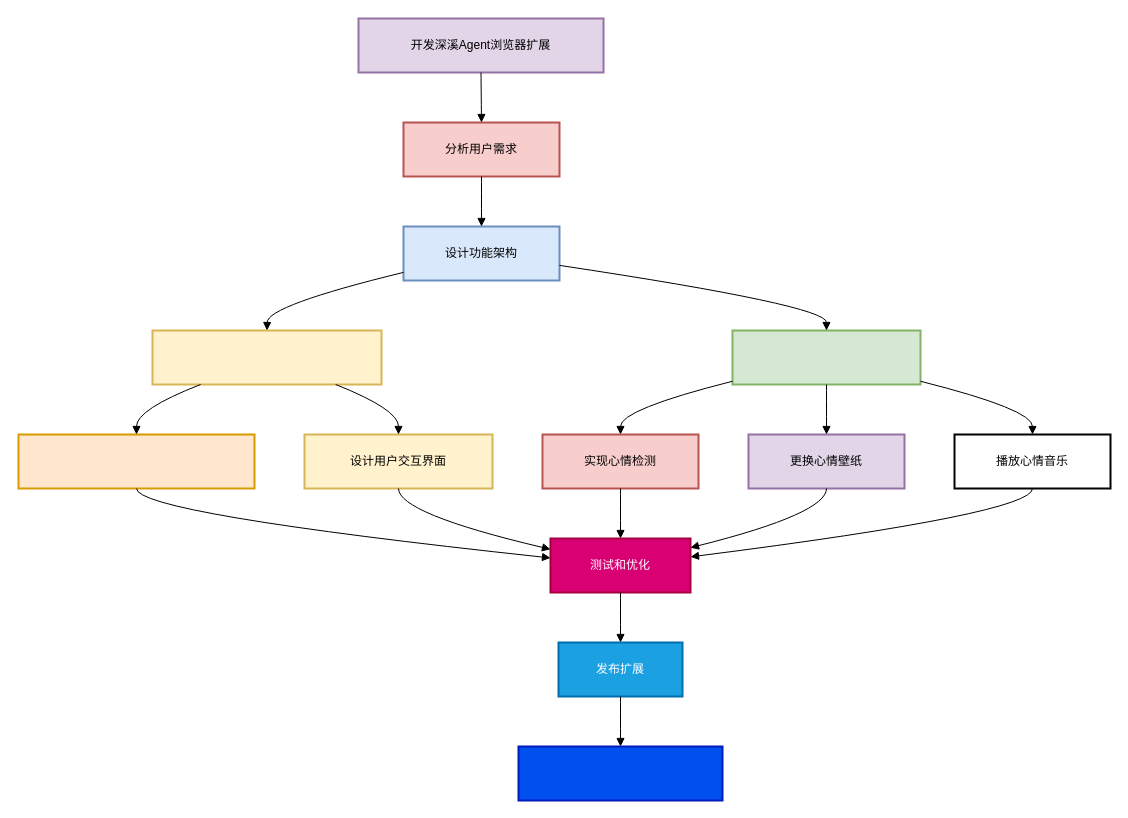
This 1128x818 diagram has some shape labels left out. The centre of each missing label's shape, as x and y in pixels:
实现问题解析和答案生成: (x=136, y=461)
开发心情天气板块: (x=826, y=357)
开发心理Agent问答板块: (x=266, y=357)
提供用户支持和更新: (x=620, y=773)
